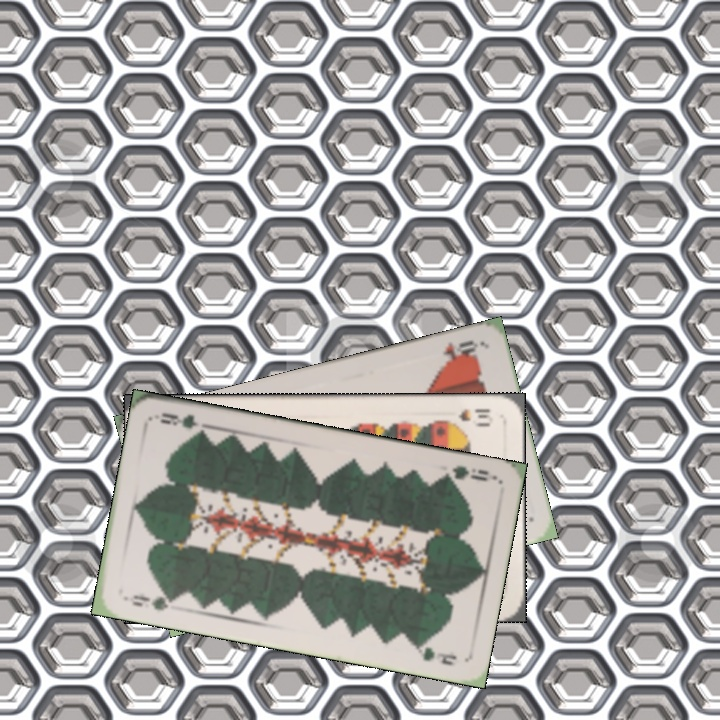G9: (437, 461, 498, 485), (119, 591, 179, 613)
HO: (438, 336, 481, 366)
S10: (439, 404, 495, 427)
